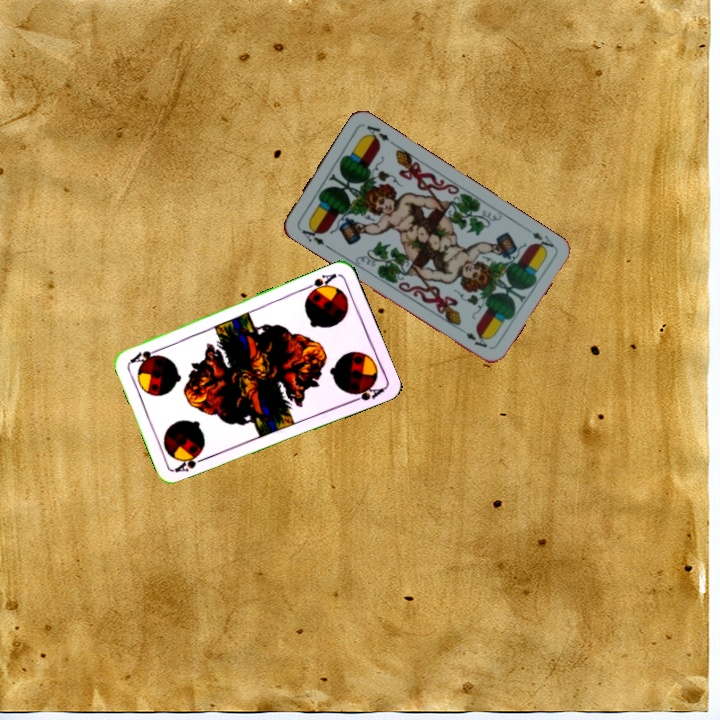EA: (297, 222, 332, 251), (528, 228, 556, 254)
SA: (301, 269, 339, 297), (171, 450, 210, 475)
